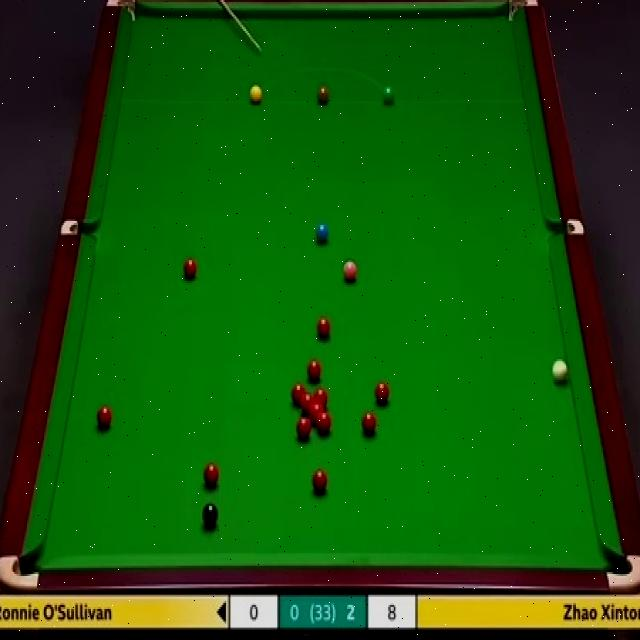black-ball: (202, 504, 219, 532)
blue-ball: (315, 220, 329, 245)
brown-ball: (317, 83, 329, 105)
green-ball: (382, 86, 395, 106)
pink-ball: (343, 260, 358, 282)
red-ball: (373, 380, 391, 408), (360, 411, 378, 438), (315, 314, 332, 341), (312, 467, 327, 495), (204, 462, 220, 488), (97, 403, 112, 430), (307, 359, 321, 384), (296, 416, 310, 441), (291, 382, 305, 406), (318, 411, 332, 435), (183, 257, 197, 279), (314, 388, 328, 409), (310, 403, 324, 422), (301, 393, 314, 413)
white-ball: (550, 355, 570, 388)
yellow-ball: (249, 85, 262, 106)
